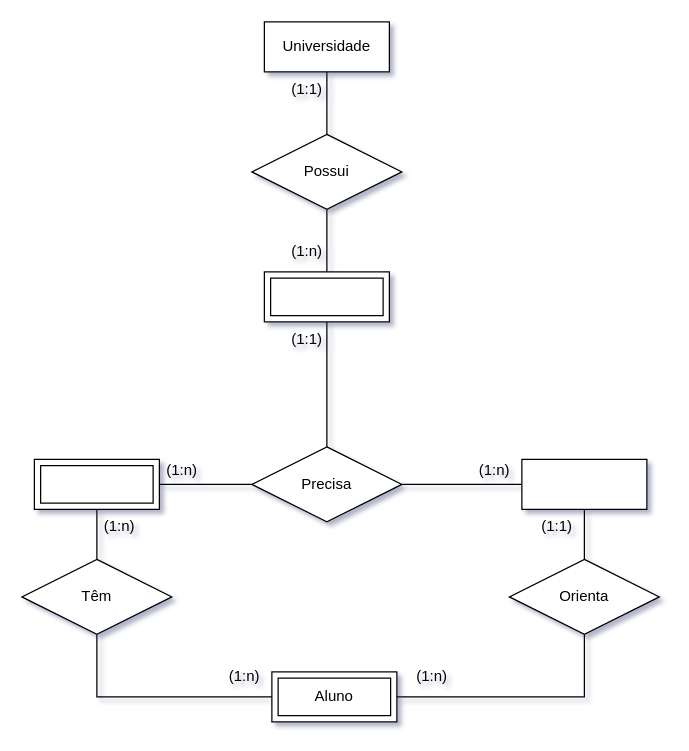
This 689x751 diagram has some shape labels left out. The shapes that lost their labels are listed below. From the top down, each one's centre as x and y in pixels, then its label:
the point at 326,296: Departamento
the point at 96,483: Disciplina
the point at 584,483: Orientador
